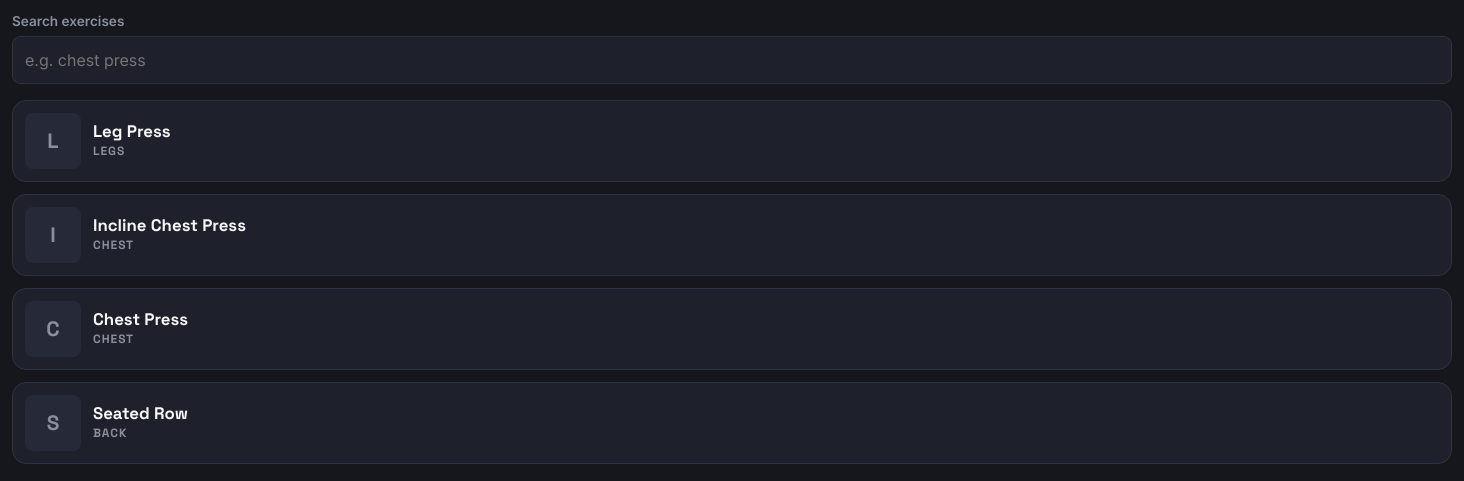
Test: ExercisePicker search › shows a message when nothing matches
The image size is (1464, 481).
Type "zzzz" into the search field labelled "Search exercises" at (732, 60), box [12,36,1452,84]
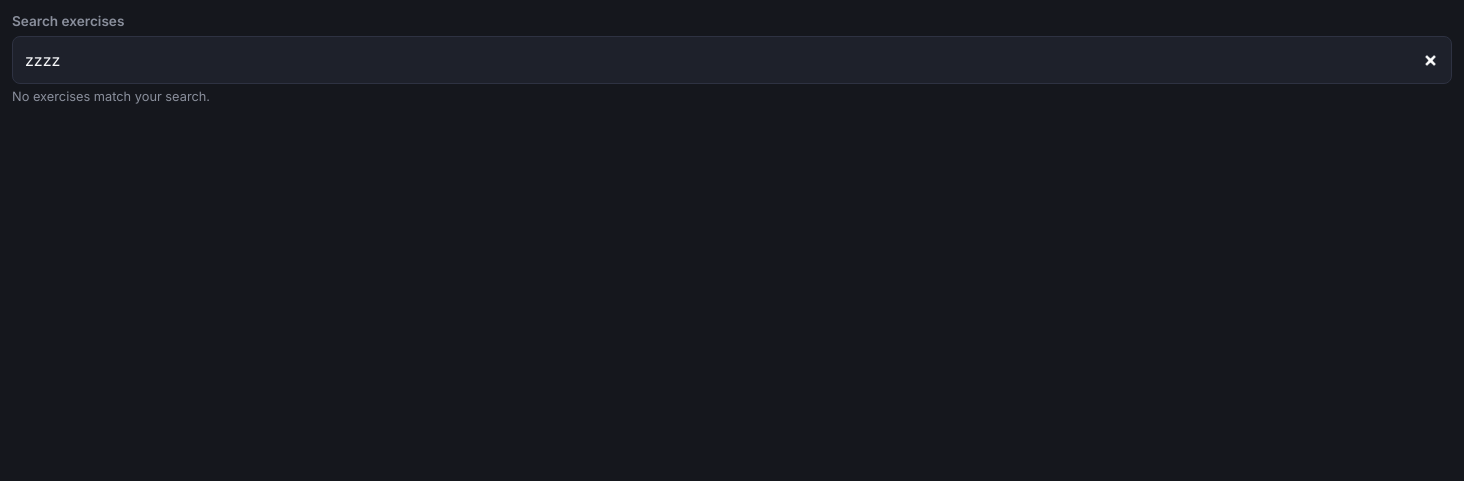
Now the text "No exercises match your search." is shown, box [12,89,210,104]
Now no headings are shown
